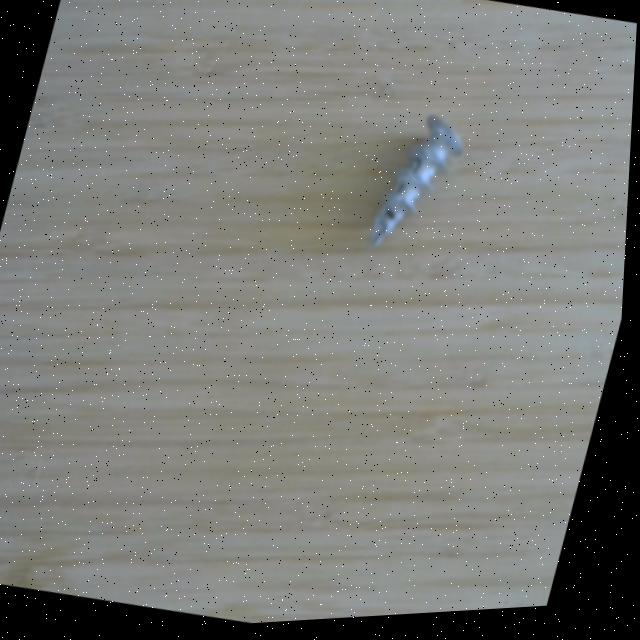Short screw: (358, 104, 486, 277)
